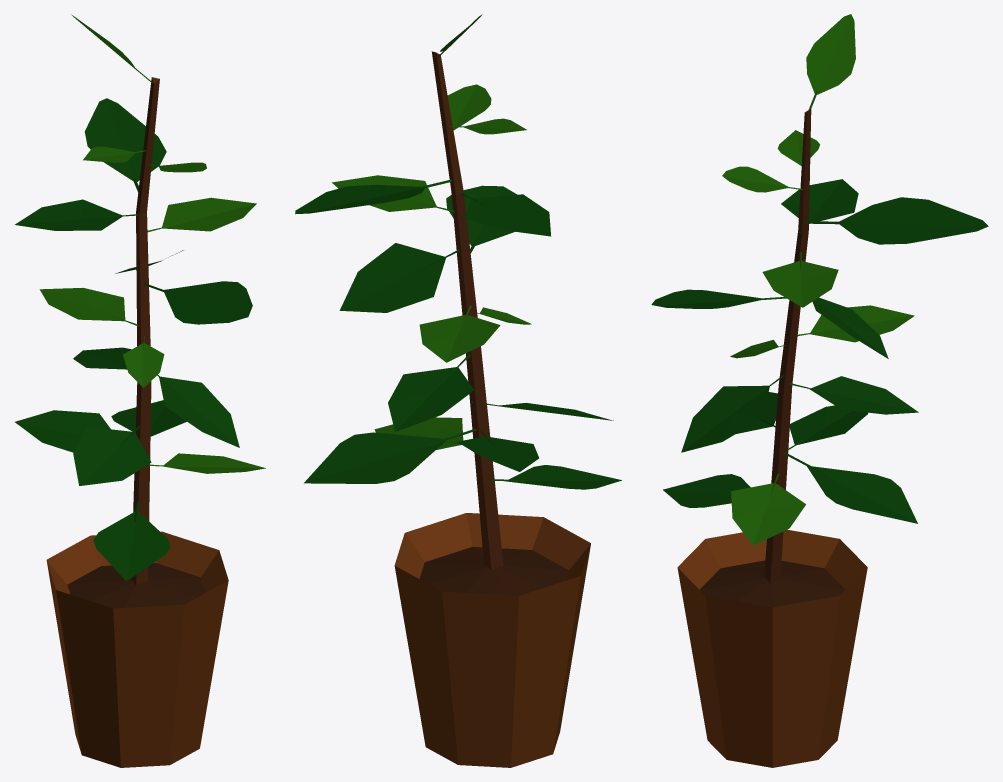
Rendered from potted-plant01_v03.fbx.
3 renders of one model, left to right at view 1: azimuth 30°, elevation 25°; view 2: azimuth 150°, elevation 25°; view 3: azimuth 270°, elevation 25°, orthographic. The views are drawn at different scales.
Parts seen in each view (by area): view 1: Pot, Plane, Leaf1.000, Leaf1.011, Leaf2.001, Leaf2.003, Leaf1.002, Leaf1.010, Leaf1.008, Leaf1.004, Leaf1.009, Leaf1.003 (+4 smaller); view 2: Pot, Plane, Leaf1.007, Leaf2.000, Leaf1.005, Leaf1.008, Leaf1.009, Leaf1.011, Leaf2.001, Leaf1.004, Leaf1.010, Leaf2.003 (+4 smaller); view 3: Pot, Plane, Leaf1.011, Leaf2.000, Leaf1.002, Leaf1.003, Leaf1.006, Leaf1.005, Leaf1.010, Leaf1.008, Leaf2.001, Leaf1.004 (+6 smaller).
Part boxes in pixels (bbox=[...]): Pot: bbox=[46, 531, 228, 767]; Plane: bbox=[131, 77, 159, 586]; Leaf1.000: bbox=[73, 425, 151, 485]; Leaf1.011: bbox=[84, 98, 166, 192]; Leaf2.001: bbox=[93, 501, 170, 581]; Leaf2.003: bbox=[143, 281, 252, 324]; Leaf1.002: bbox=[157, 375, 239, 447]; Leaf1.010: bbox=[147, 197, 256, 232]; Leaf1.008: bbox=[15, 199, 145, 230]; Leaf1.004: bbox=[15, 410, 110, 452]; Leaf1.009: bbox=[39, 288, 138, 326]; Leaf1.003: bbox=[149, 453, 265, 473]; Pot: bbox=[394, 513, 590, 767]; Plane: bbox=[431, 51, 503, 570]; Leaf1.007: bbox=[339, 243, 459, 312]; Leaf2.000: bbox=[304, 428, 476, 483]; Leaf1.005: bbox=[388, 354, 473, 431]; Leaf1.008: bbox=[461, 193, 551, 236]; Leaf1.009: bbox=[419, 305, 500, 362]; Leaf1.011: bbox=[295, 179, 452, 214]; Leaf2.001: bbox=[492, 465, 621, 489]; Leaf1.004: bbox=[457, 431, 538, 471]; Leaf1.010: bbox=[332, 175, 454, 212]; Leaf2.003: bbox=[446, 185, 516, 253]; Pot: bbox=[677, 529, 867, 767]; Plane: bbox=[764, 109, 811, 584]; Leaf1.011: bbox=[804, 197, 988, 244]; Leaf2.000: bbox=[784, 452, 917, 523]; Leaf1.002: bbox=[681, 375, 783, 452]; Leaf1.003: bbox=[731, 473, 805, 545]; Leaf1.006: bbox=[806, 14, 855, 109]; Leaf1.005: bbox=[789, 376, 918, 414]; Leaf1.010: bbox=[762, 252, 838, 307]; Leaf1.008: bbox=[781, 179, 858, 233]; Leaf2.001: bbox=[663, 474, 750, 507]; Leaf1.004: bbox=[788, 405, 868, 449].
Size of the model in its own units: 48.57 by 147 by 63.06.
